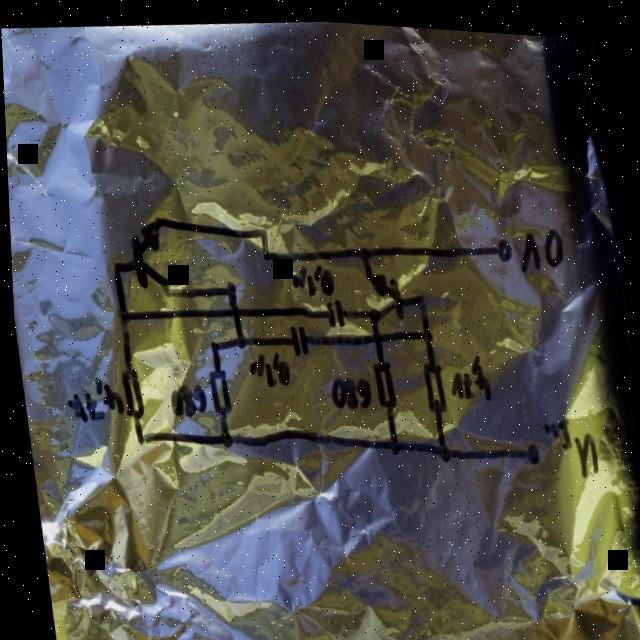capacitor: (283, 318, 307, 353), (322, 293, 343, 324)
crossover: (224, 301, 239, 317), (368, 324, 380, 340)
junction: (432, 435, 448, 457), (383, 431, 398, 451), (214, 426, 229, 446), (113, 304, 128, 324), (363, 302, 379, 320), (355, 239, 369, 257), (415, 322, 431, 337), (221, 277, 234, 294), (204, 336, 218, 350), (231, 331, 244, 346), (130, 431, 142, 446), (258, 245, 270, 260), (108, 258, 119, 273), (255, 222, 266, 236), (412, 287, 423, 300), (159, 284, 170, 297)
resistor: (418, 353, 445, 410), (202, 363, 230, 415), (116, 365, 141, 419), (368, 354, 393, 405)
terminal: (491, 229, 511, 257), (520, 433, 537, 459)
text: (537, 406, 597, 475), (58, 372, 122, 425), (512, 217, 564, 268), (442, 345, 490, 398), (324, 367, 371, 409), (242, 345, 289, 387), (286, 257, 333, 295), (163, 378, 206, 418)
transistor: (124, 214, 167, 289), (365, 266, 402, 320)
